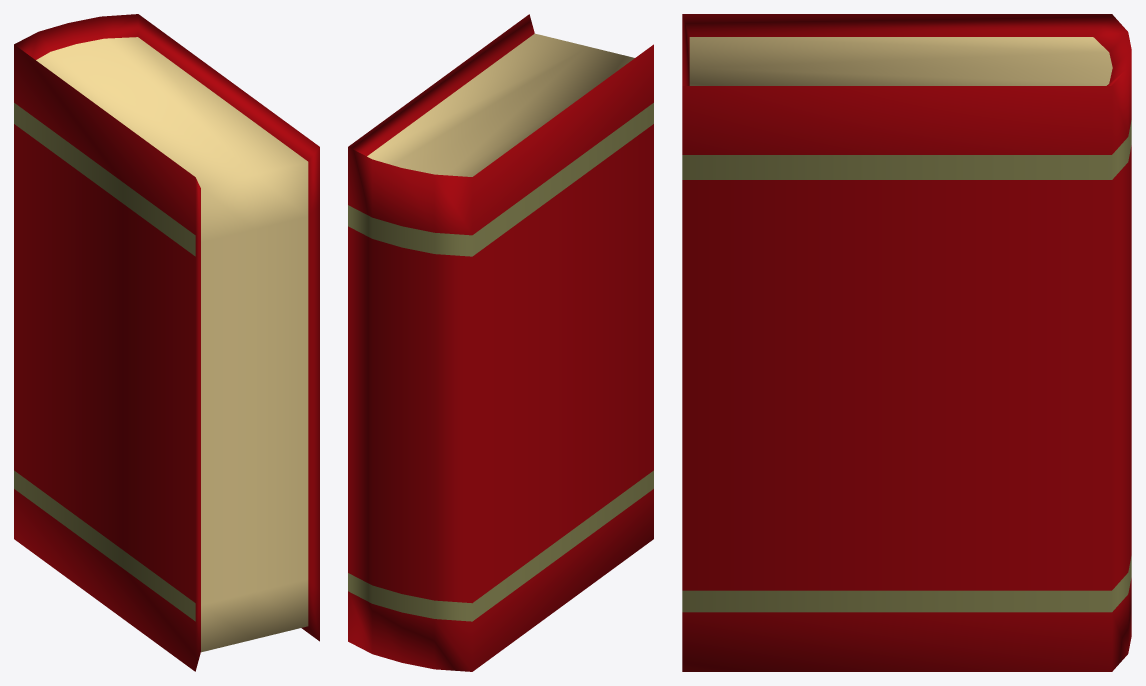
File: book.fbx
The picture shows the model from 3 angles, left to right: view 1: azimuth 30°, elevation 25°; view 2: azimuth 150°, elevation 25°; view 3: azimuth 270°, elevation 25°; orthographic projection. The views are drawn at different scales.
Visible parts, largest first — view 1: Cube; view 2: Cube; view 3: Cube.
Boxes of the visible parts, x1=… form: Cube: x1=14, y1=14, x2=319, y2=671; Cube: x1=348, y1=14, x2=653, y2=671; Cube: x1=682, y1=14, x2=1131, y2=671.
Size of the model in its own units: 56.04 by 213 by 148.
